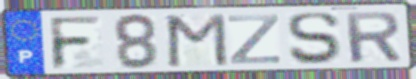8: (111, 12, 162, 72)
F: (46, 14, 104, 72)
M: (164, 12, 230, 69)
R: (341, 10, 404, 64)
S: (285, 10, 342, 66)
Z: (226, 13, 283, 66)
